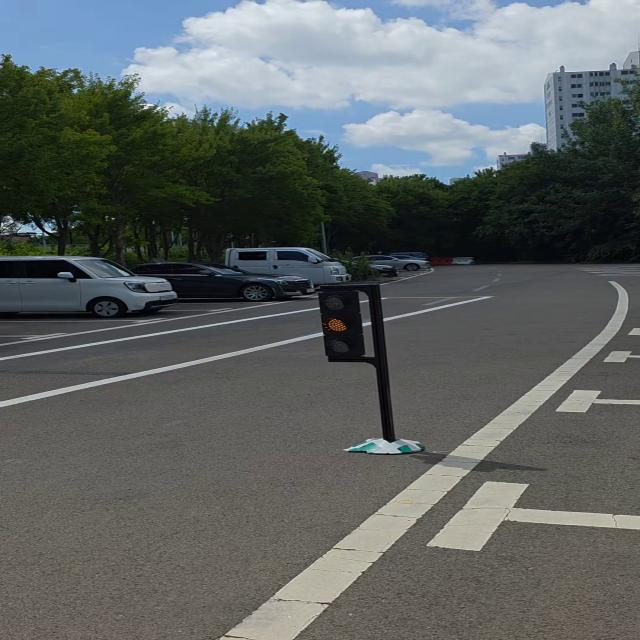yellow: (314, 282, 372, 364)
